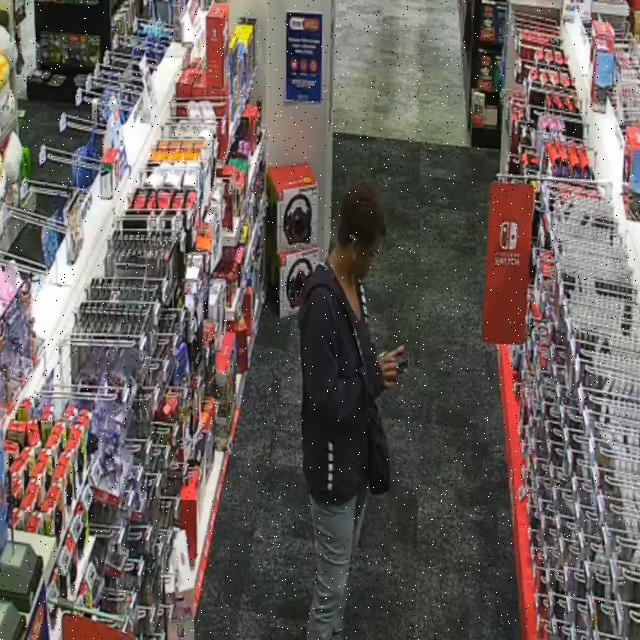bags: (367, 388, 391, 495)
hands: (378, 352, 397, 389)
person: (300, 184, 402, 639)
